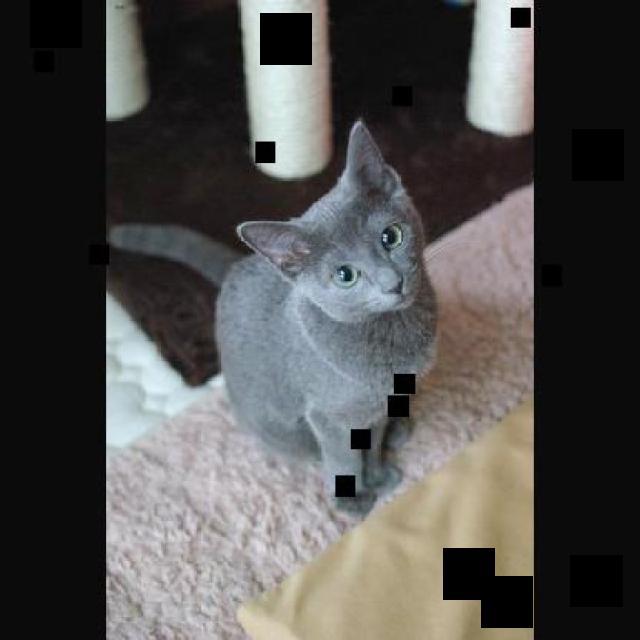unauthorized: (106, 116, 440, 507)
